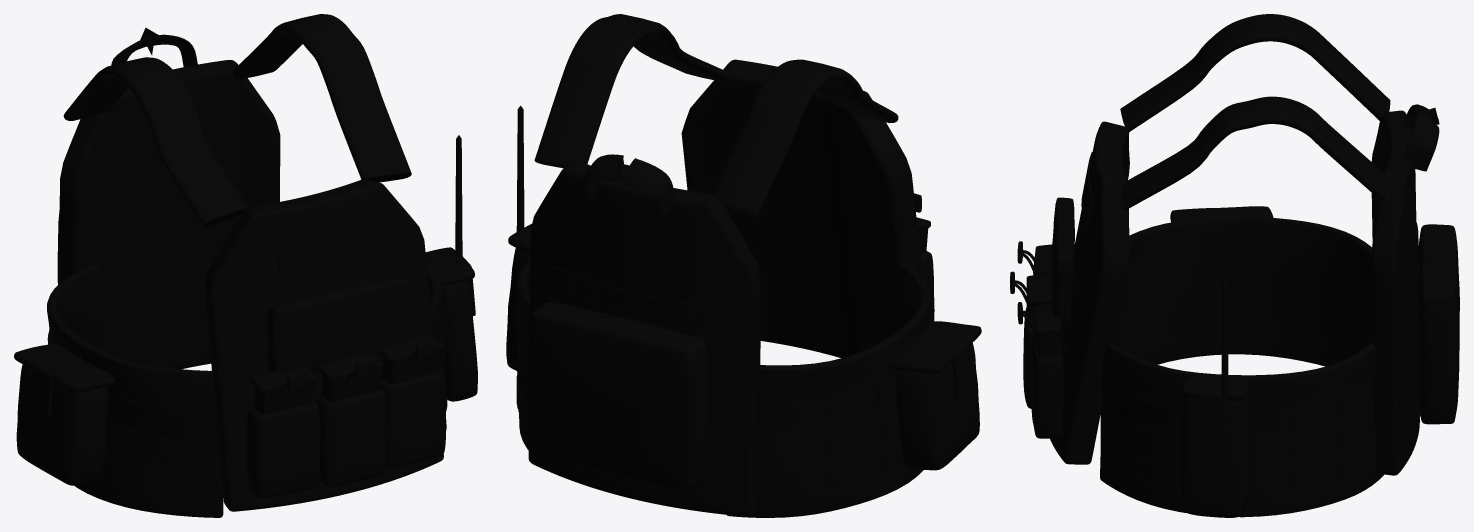
The model's file is _test_vest_3.glb.
3 views of the same model, side by side, from view 1: azimuth 30°, elevation 25°; view 2: azimuth 150°, elevation 25°; view 3: azimuth 270°, elevation 25° (orthographic). The views are drawn at different scales.
Visible parts, largest first — view 1: body; view 2: body; view 3: body.
Part boxes in pixels (box(x1,y1,x2,y2)): body: box(14, 14, 477, 517); body: box(506, 14, 981, 517); body: box(1010, 14, 1459, 517).
Bounding box in the file's own units: 0.5498 × 0.4703 × 0.5158.
Materials: 6 (6 with a texture image).
